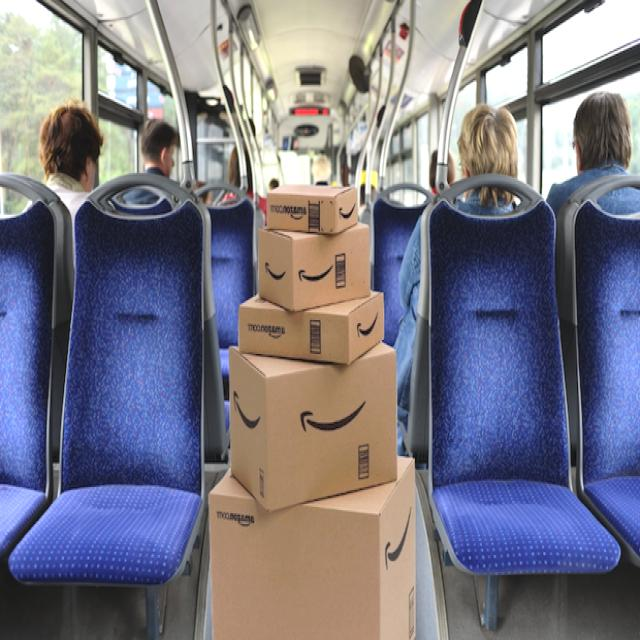asiento-libre: (8, 171, 204, 588), (427, 174, 622, 572), (574, 173, 640, 585), (555, 174, 640, 465), (0, 173, 63, 542), (179, 186, 231, 465), (195, 178, 253, 377), (371, 185, 431, 354)
